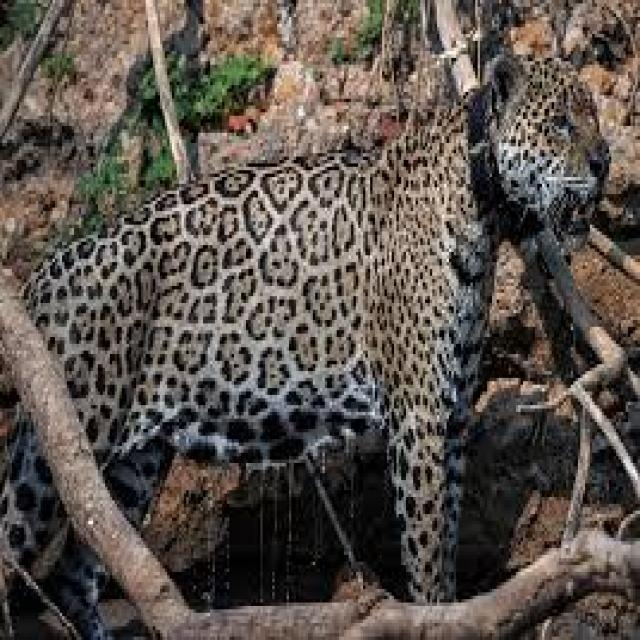Jaguar: (0, 51, 614, 640)
